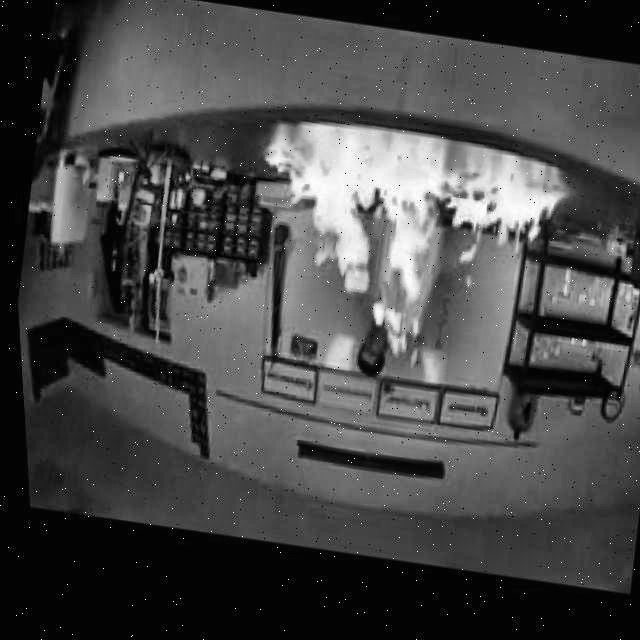Fire: (235, 135, 583, 348)
